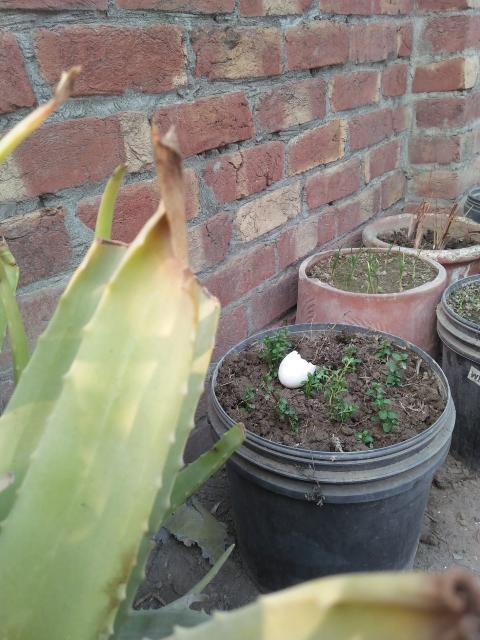Roto: (277, 350, 317, 389)
